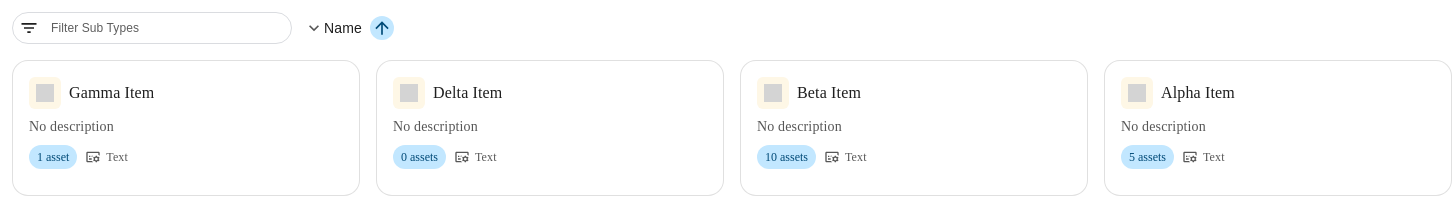
Scenario: SubTypesTab › rendering › should render empty state when filter yields no results
The image size is (1452, 213).
// Add filter for "nonexistent"
Click the field with placeholder "Filter Sub Types" at (167, 28), box [47,15,287,41]
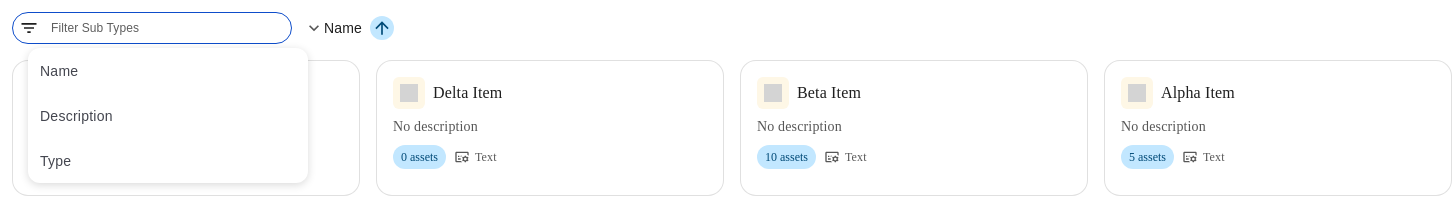
Click the menu item "Name" at (59, 70), box [40,62,78,78]
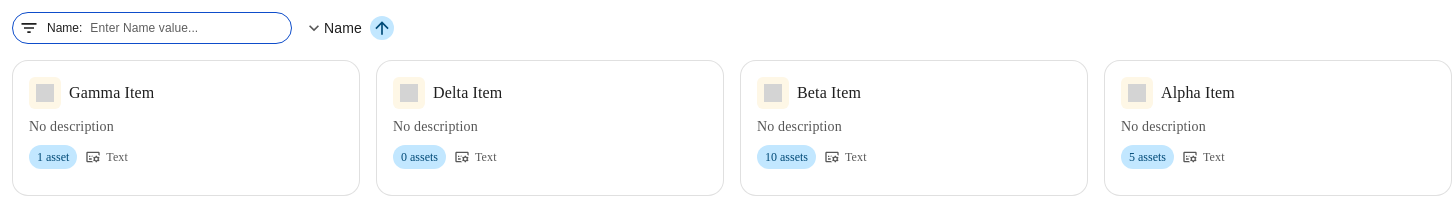
Type "nonexistent" into the field with placeholder "Filter Sub Types" at (187, 28), box [86,15,287,41]
Then press Enter
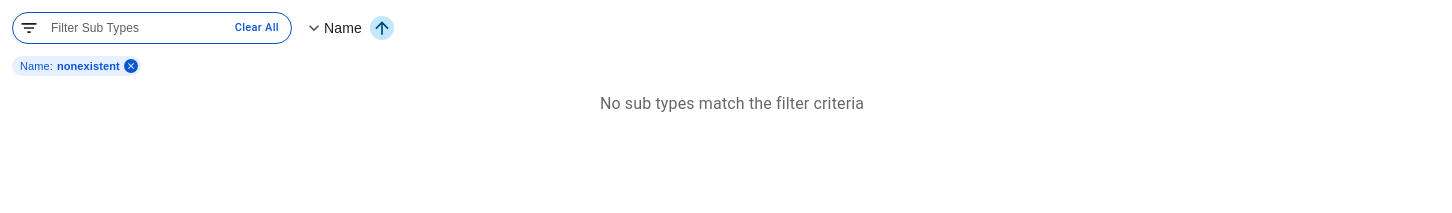
Expected: the text "No sub types match the filter criteria" is shown, [600,92,864,116]
